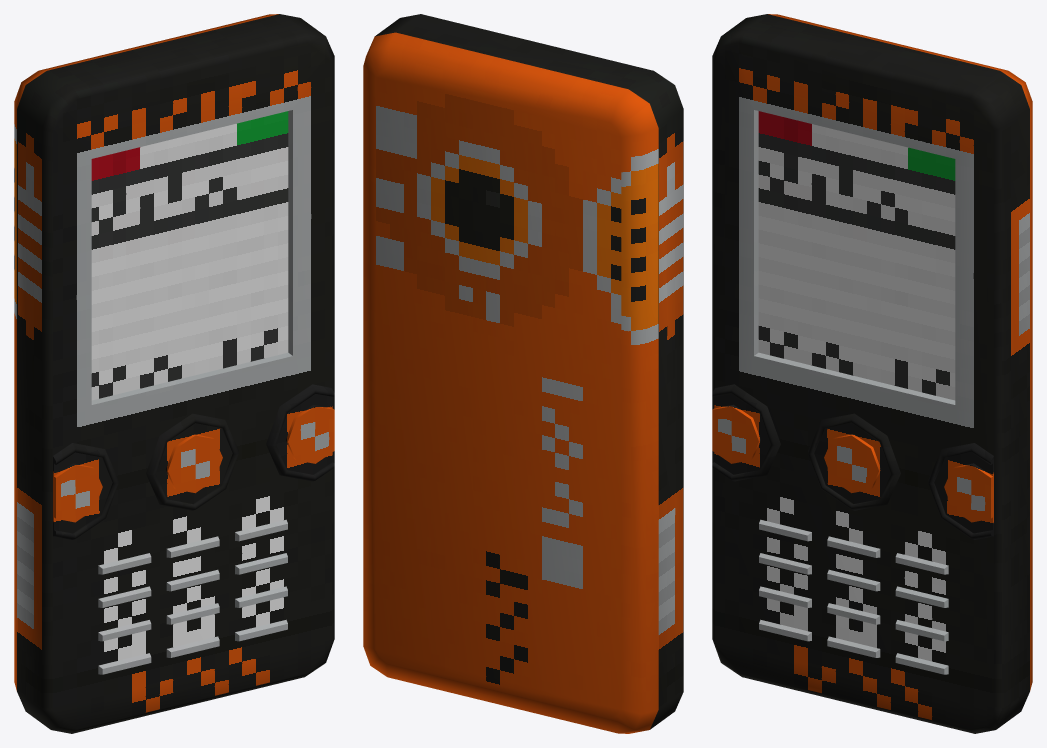
File: phone.obj
The picture shows the model from 3 angles, left to right: view 1: azimuth 30°, elevation 25°; view 2: azimuth 150°, elevation 25°; view 3: azimuth 330°, elevation 25°; orthographic projection.
Visible parts, largest first — view 1: phone; view 2: phone; view 3: phone.
Boxes of the visible parts, x1=… form: phone: x1=14, y1=14, x2=334, y2=733; phone: x1=363, y1=14, x2=683, y2=733; phone: x1=712, y1=14, x2=1032, y2=733.
Size of the model in its own units: 0.1931 by 0.4065 by 0.0524.
